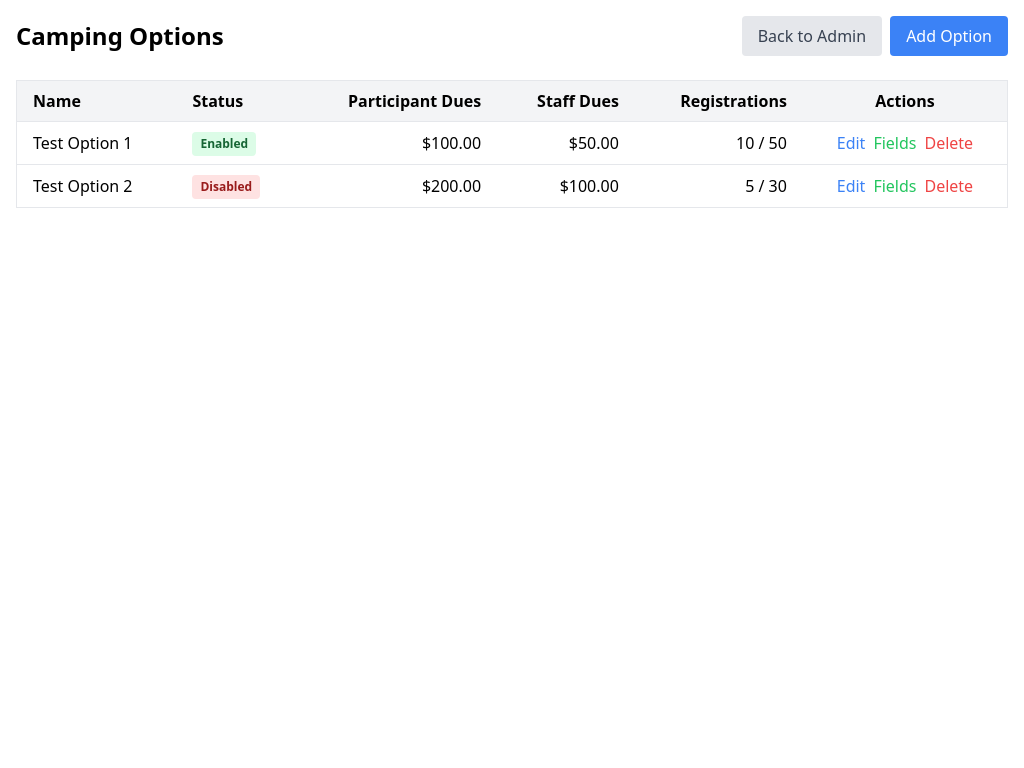
Scenario: AdminCampingOptionsPage › opens add modal when add button is clicked
Note: Click the add button - be more specific with role
Step 1. Click the button "Add Option" → (949, 36), box [890,16,1008,56]
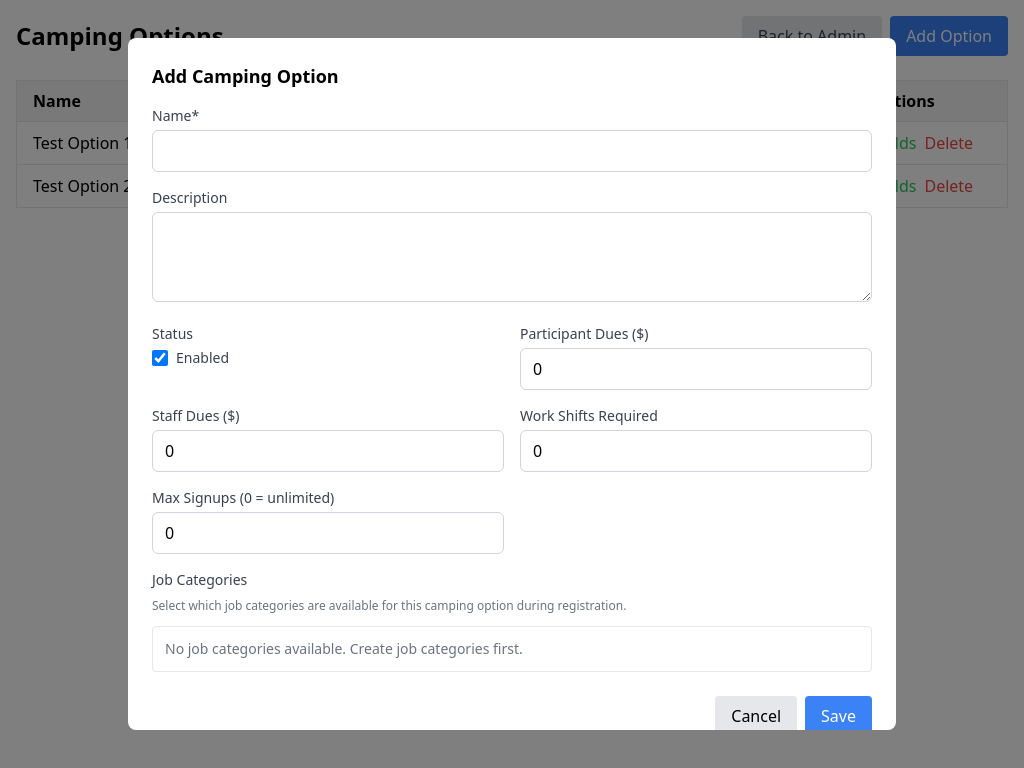
Expected: the heading "Add Camping Option" is shown, [152,64,339,88]
